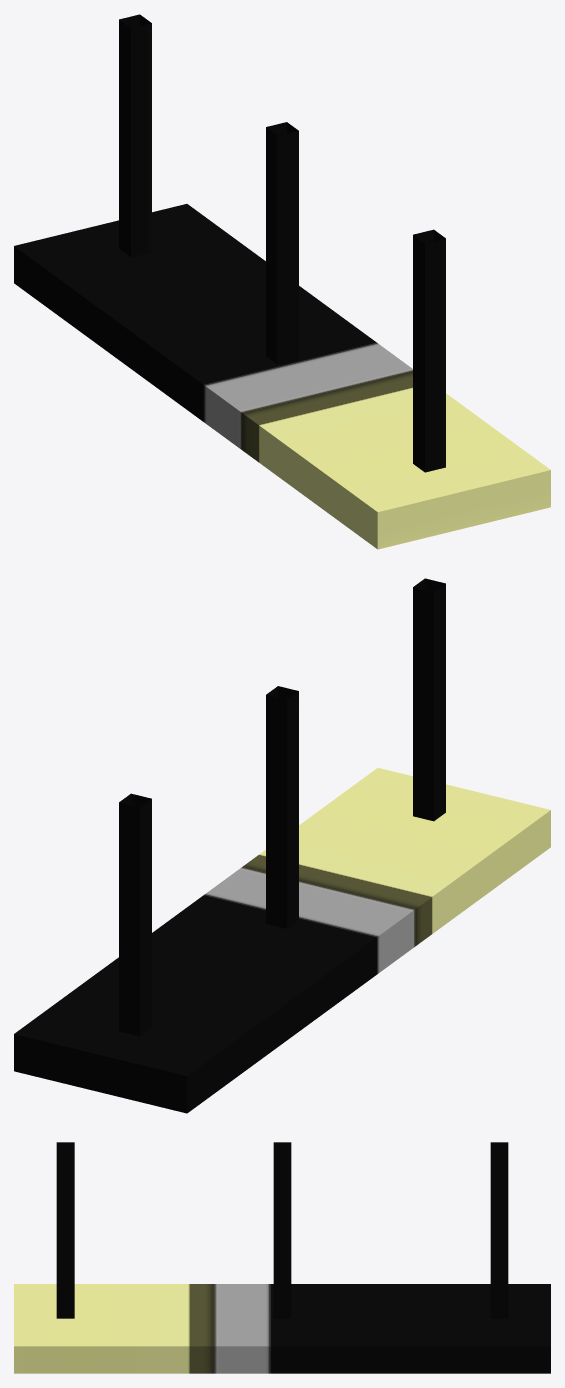
The model's file is SurroundingEnvironment_HangingLamp.fbx.
3 renders of one model, top to bottom at view 1: azimuth 30°, elevation 25°; view 2: azimuth 150°, elevation 25°; view 3: azimuth 270°, elevation 25°, orthographic. The views are drawn at different scales.
Visible parts, largest first — view 1: HangingLamp; view 2: HangingLamp; view 3: HangingLamp.
Part boxes in pixels (left/top/right/bottom): HangingLamp: left=14, top=14, right=550, bottom=549; HangingLamp: left=14, top=578, right=550, bottom=1113; HangingLamp: left=14, top=1142, right=550, bottom=1373.
Bounding box in the file's own units: 50.86 × 74.73 × 185.
